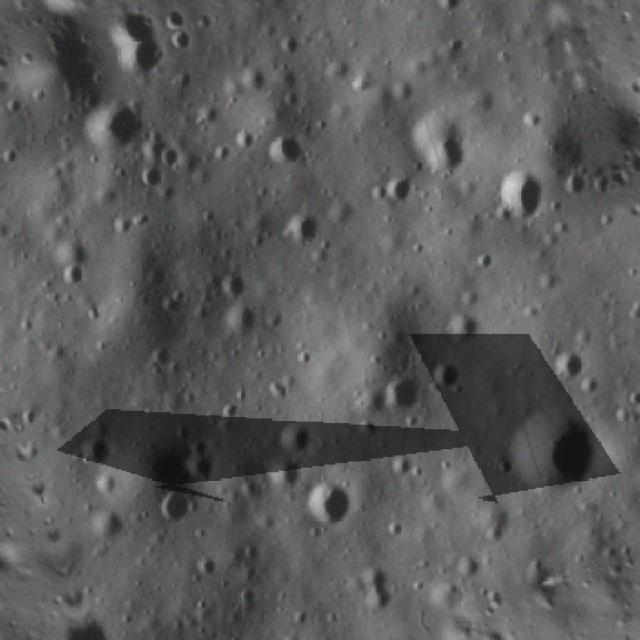crater: (492, 387, 614, 515), (74, 84, 158, 168), (404, 102, 482, 186), (482, 156, 555, 232), (294, 474, 363, 543), (108, 36, 174, 90), (377, 366, 431, 425), (149, 480, 203, 534), (431, 307, 487, 359), (418, 353, 469, 405), (83, 502, 134, 552), (68, 429, 117, 478), (276, 206, 324, 256), (539, 344, 587, 393), (272, 414, 323, 460), (262, 125, 310, 173), (260, 453, 308, 501), (356, 557, 404, 605), (215, 301, 263, 347), (176, 450, 227, 493), (230, 60, 275, 106), (469, 505, 513, 552), (381, 164, 424, 210), (51, 257, 94, 300), (213, 264, 256, 307), (227, 576, 268, 618), (185, 545, 226, 586), (381, 446, 421, 486), (132, 159, 172, 198), (449, 547, 489, 585), (558, 167, 594, 208), (86, 466, 123, 505), (150, 137, 188, 174), (225, 120, 261, 158), (271, 27, 307, 64), (183, 430, 220, 464), (162, 28, 198, 61), (348, 417, 384, 448), (437, 29, 469, 62), (575, 373, 607, 405), (360, 178, 394, 208), (214, 396, 246, 426), (470, 248, 498, 277), (424, 0, 467, 18)
